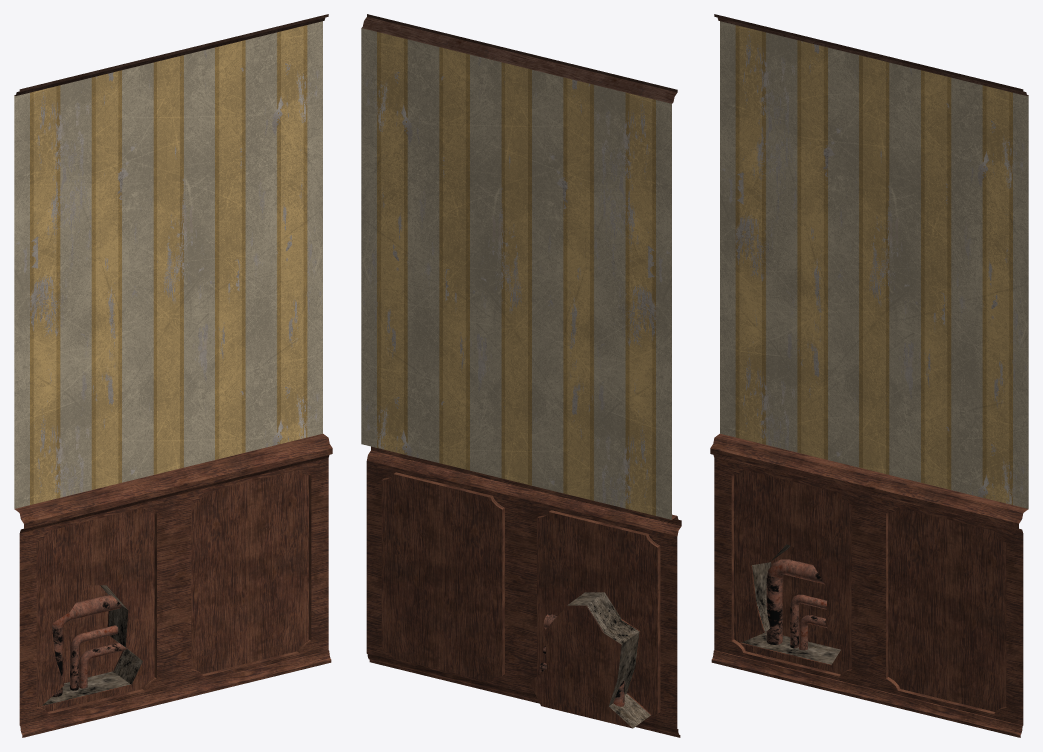
File: SM_Wallpaper_Damaged_02.fbx
3 views of the same model, side by side, from view 1: azimuth 30°, elevation 25°; view 2: azimuth 150°, elevation 25°; view 3: azimuth 330°, elevation 25° (orthographic).
Visible parts, largest first — view 1: SM_Wallpaper_Damaged_02; view 2: SM_Wallpaper_Damaged_02; view 3: SM_Wallpaper_Damaged_02.
Boxes of the visible parts, <box> form: SM_Wallpaper_Damaged_02: <box>14,14,332,737</box>; SM_Wallpaper_Damaged_02: <box>361,14,681,737</box>; SM_Wallpaper_Damaged_02: <box>710,14,1028,737</box>.
Bounding box in the file's own units: 200 × 400 × 28.36.
